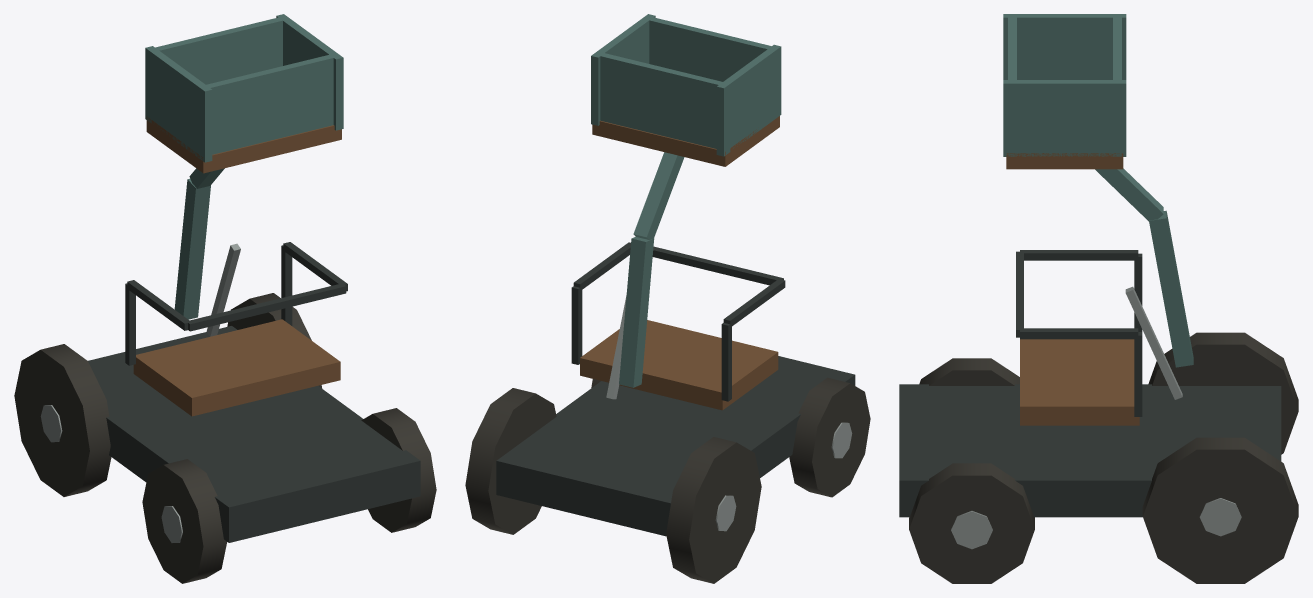
The model's file is Orchard-Picker.glb.
3 renders of one model, left to right at view 1: azimuth 30°, elevation 25°; view 2: azimuth 150°, elevation 25°; view 3: azimuth 270°, elevation 25°, orthographic. The views are drawn at different scales.
Parts seen in each view (by area): view 1: orchard-picker-static-orchard-picker-iron-mat, orchard-picker-static-orchard-picker-paint-mat, orchard-picker-static-orchard-picker-wheel-mat, orchard-picker-static-orchard-picker-timber-mat, orchard-picker-static-orchard-picker-steel-mat; view 2: orchard-picker-static-orchard-picker-iron-mat, orchard-picker-static-orchard-picker-paint-mat, orchard-picker-static-orchard-picker-wheel-mat, orchard-picker-static-orchard-picker-timber-mat, orchard-picker-static-orchard-picker-steel-mat; view 3: orchard-picker-static-orchard-picker-wheel-mat, orchard-picker-static-orchard-picker-iron-mat, orchard-picker-static-orchard-picker-paint-mat, orchard-picker-static-orchard-picker-timber-mat, orchard-picker-static-orchard-picker-steel-mat.
Boxes of the visible parts, x1=… form: orchard-picker-static-orchard-picker-iron-mat: x1=88, y1=242, x2=420, y2=542; orchard-picker-static-orchard-picker-paint-mat: x1=145, y1=14, x2=343, y2=319; orchard-picker-static-orchard-picker-wheel-mat: x1=14, y1=293, x2=436, y2=583; orchard-picker-static-orchard-picker-timber-mat: x1=133, y1=116, x2=341, y2=416; orchard-picker-static-orchard-picker-steel-mat: x1=40, y1=243, x2=240, y2=542; orchard-picker-static-orchard-picker-iron-mat: x1=496, y1=242, x2=855, y2=536; orchard-picker-static-orchard-picker-paint-mat: x1=591, y1=14, x2=781, y2=387; orchard-picker-static-orchard-picker-wheel-mat: x1=465, y1=377, x2=870, y2=583; orchard-picker-static-orchard-picker-timber-mat: x1=580, y1=116, x2=779, y2=410; orchard-picker-static-orchard-picker-steel-mat: x1=606, y1=295, x2=852, y2=531; orchard-picker-static-orchard-picker-wheel-mat: x1=909, y1=332, x2=1298, y2=583; orchard-picker-static-orchard-picker-iron-mat: x1=899, y1=250, x2=1281, y2=517; orchard-picker-static-orchard-picker-paint-mat: x1=1003, y1=14, x2=1193, y2=367; orchard-picker-static-orchard-picker-timber-mat: x1=1006, y1=153, x2=1139, y2=425; orchard-picker-static-orchard-picker-steel-mat: x1=951, y1=286, x2=1241, y2=549.
Size of the model in its own units: 1.87 by 3.51 by 2.66.
